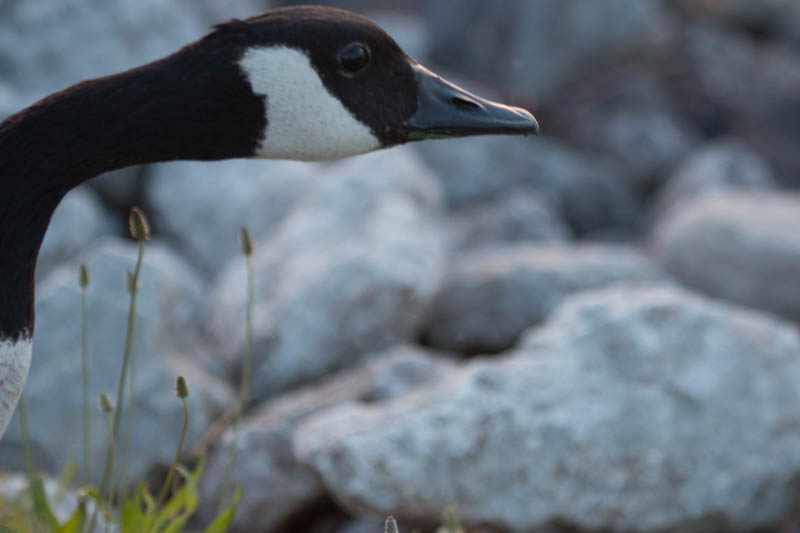goose-head: (180, 6, 540, 161)
